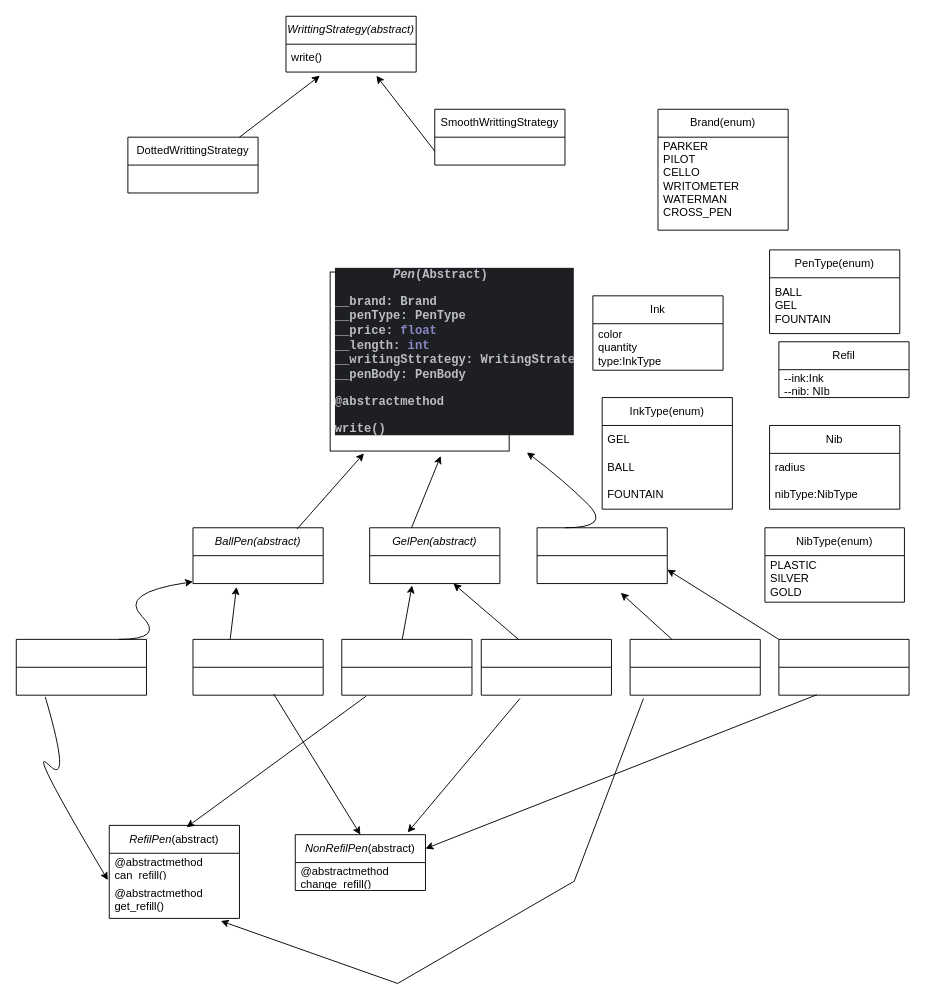
Image size: 925x1007. Some labels were removed from this diagram. The shapes that lost their labels are listed below. From the top down, each one's centre as x and y in pixels, then its label:
At [601,555]: "Fountain(abstract)".
At [80,666]: "RefilBallPen".
At [257,666]: "NonRefilBallPen".
At [406,666]: "RefilGelPen".
At [545,666]: "NonRefilGelPen".
At [694,666]: "RefilFountainPen".
At [843,666]: "NonRefilFountainPen".
